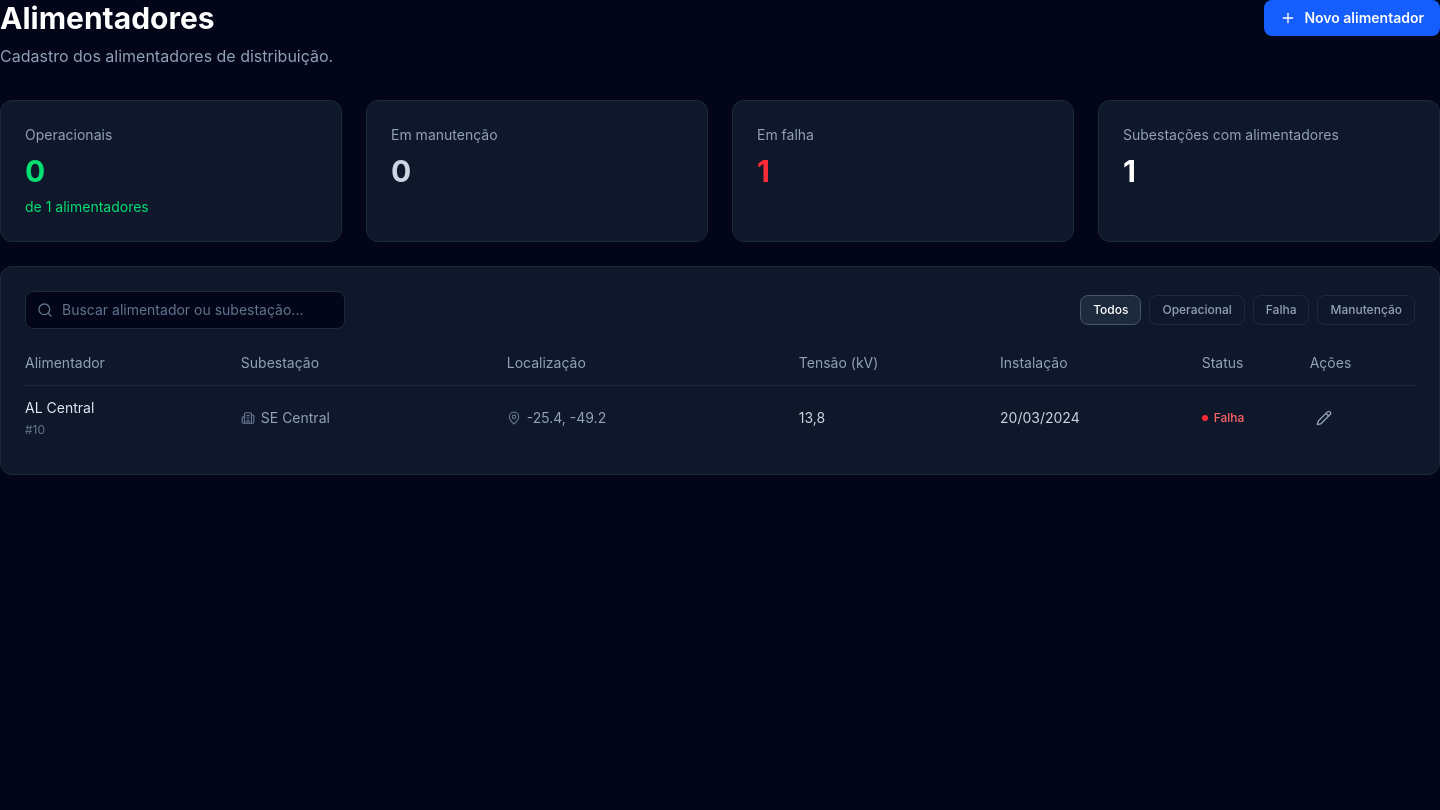
Test case: edicao › permite trocar a subestacao preservando o status
Click the button named "Editar AL Central": [1324, 418] box 1310,404 -> 1338,432
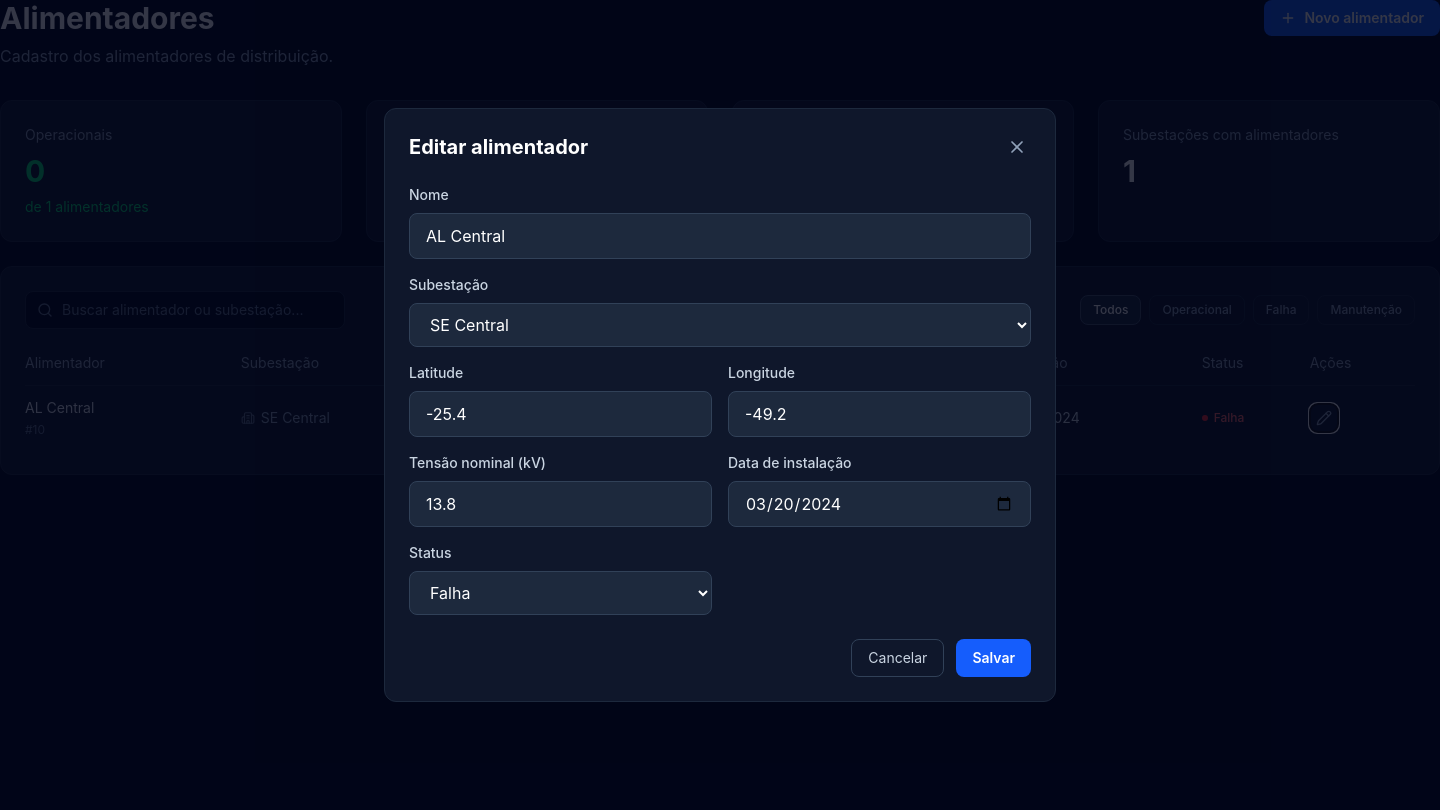
Now the dropdown labelled "Subestação" shows "SE Central"
Select "SE Norte" in the dropdown labelled "Subestação": [720, 325] box 409,303 -> 1031,347
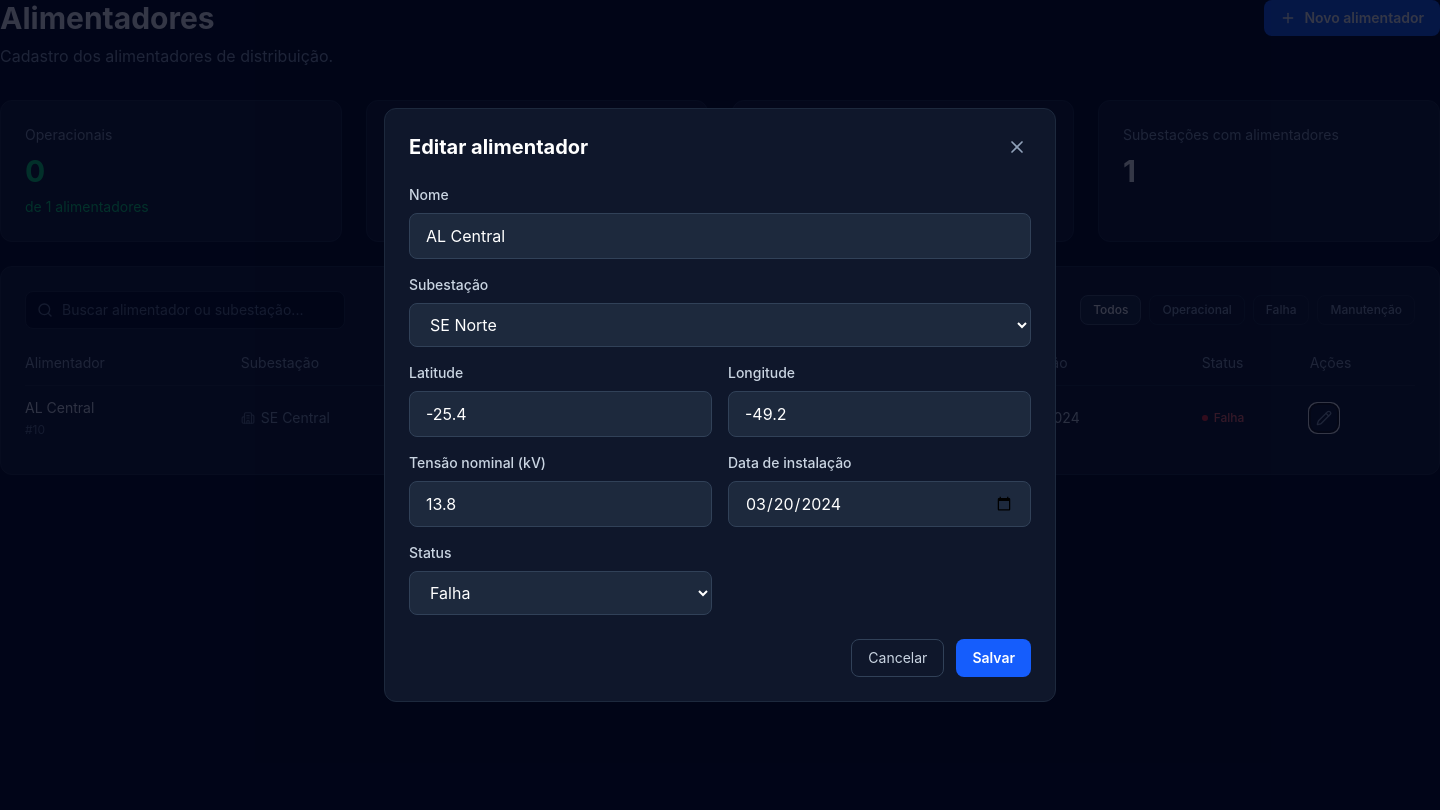
Click the button "Salvar": [994, 658] box 956,639 -> 1031,677
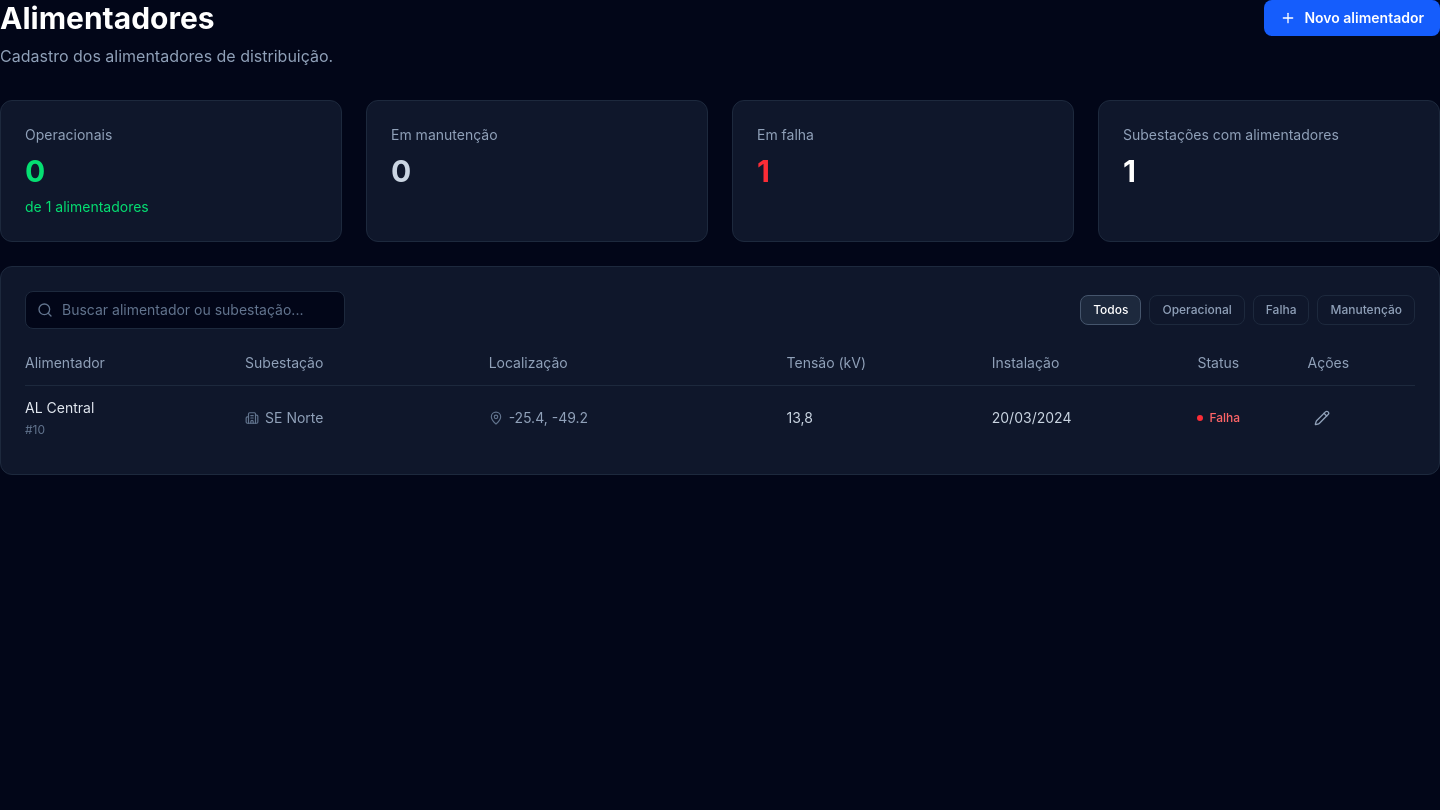
Now the text "SE Norte" is shown, box 245,409 -> 324,426
